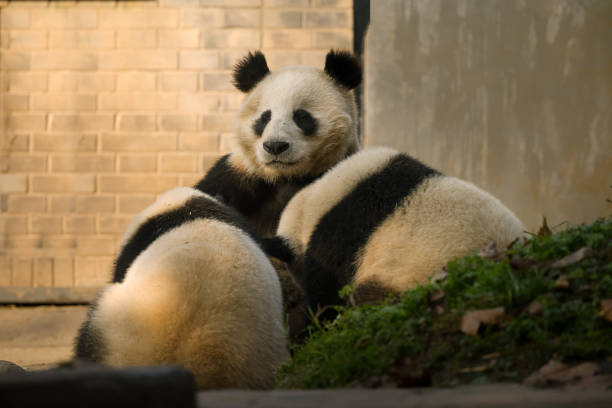panda: (222, 36, 373, 191)
